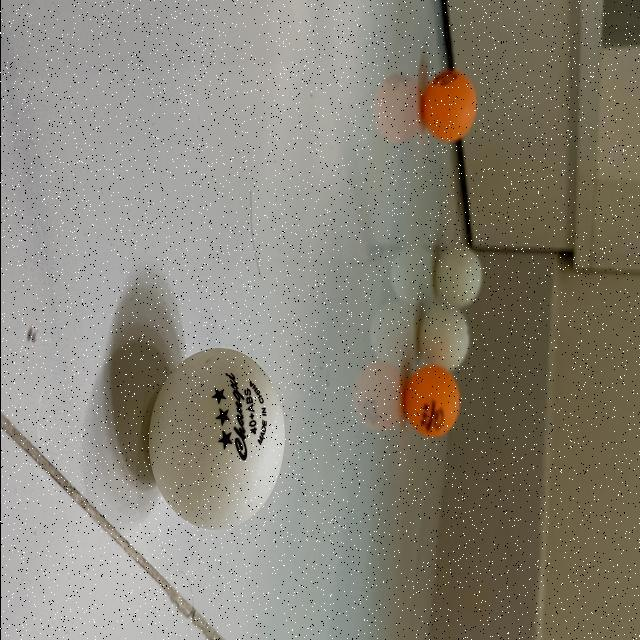ping-pong-ball: (147, 348, 283, 530), (402, 369, 458, 438), (421, 72, 475, 142), (418, 306, 467, 372), (433, 249, 482, 307)
